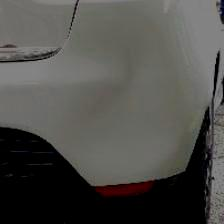bumper_dent: (70, 5, 192, 172)
